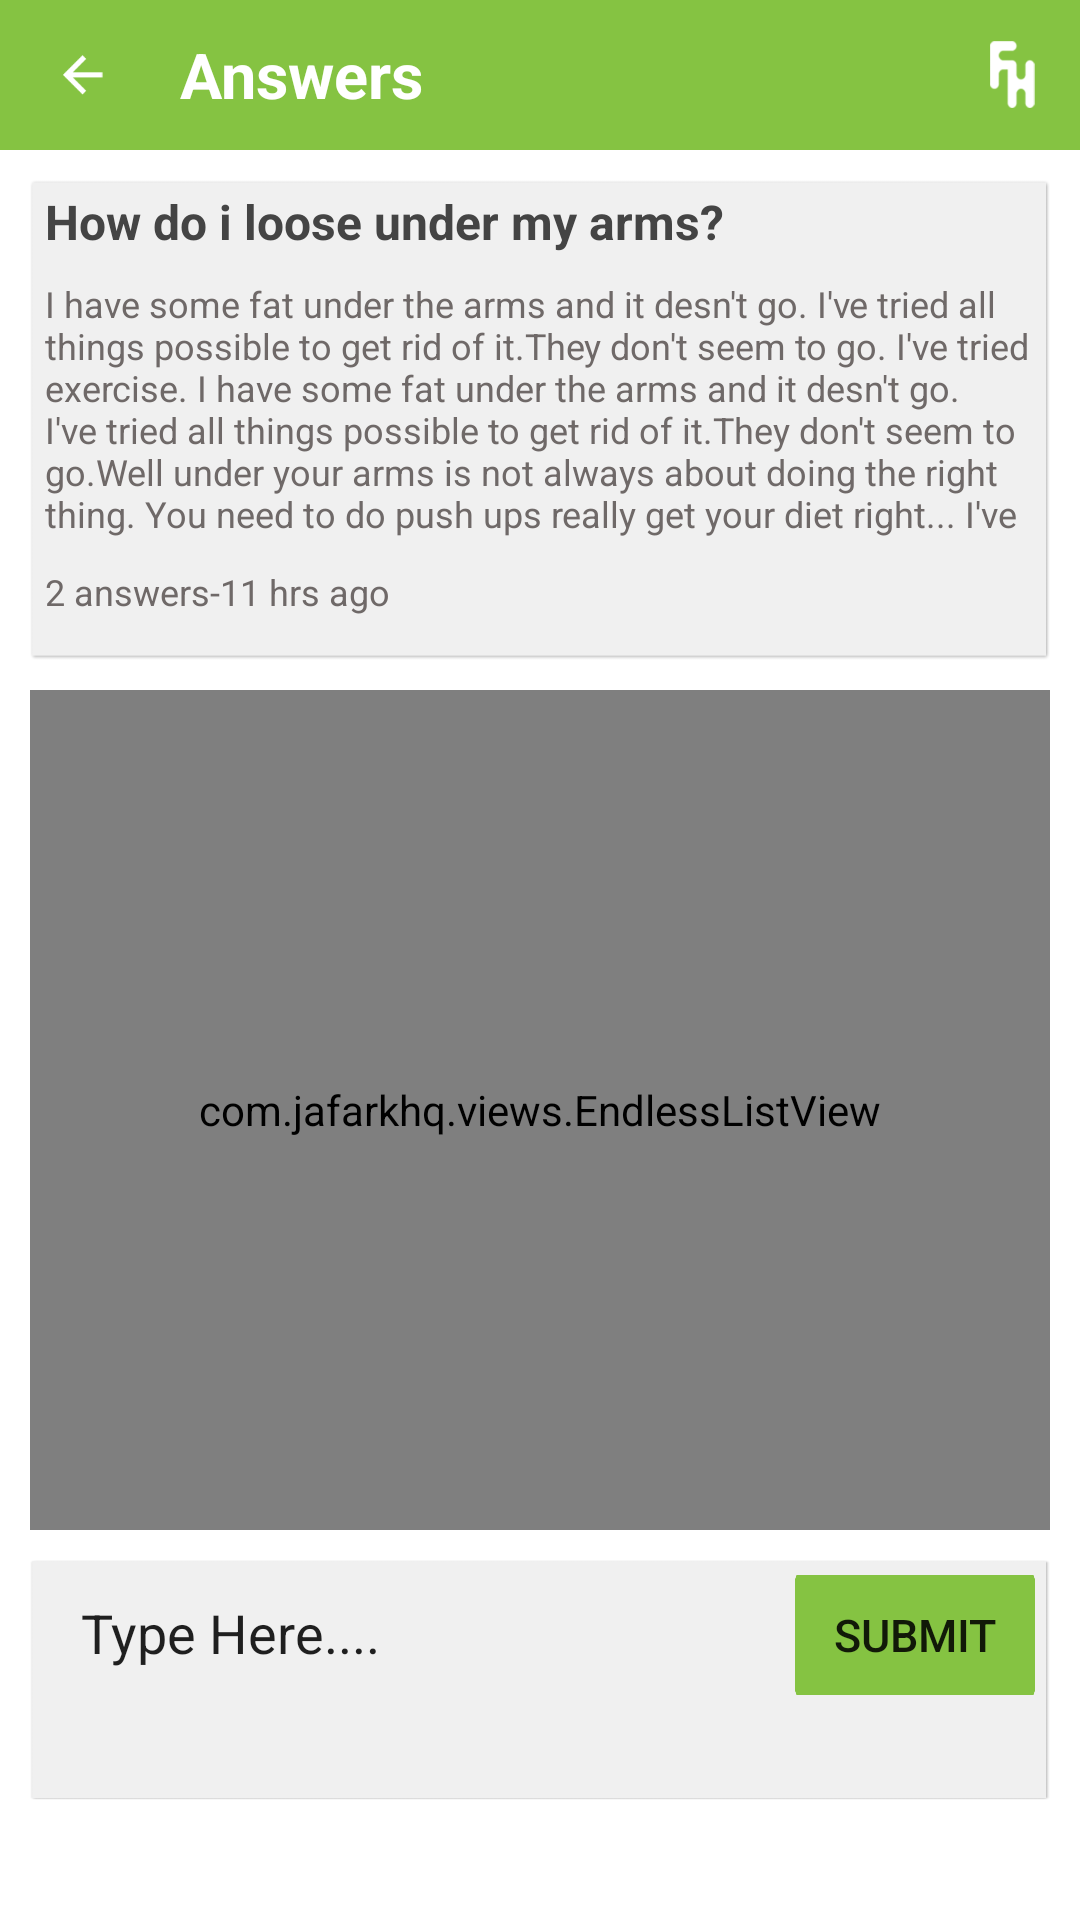

Locate icon controls on the screen. Image size 1080w x 1920h, boxes as (x1, y1, x2, y2).
back: (63, 55, 103, 95)
